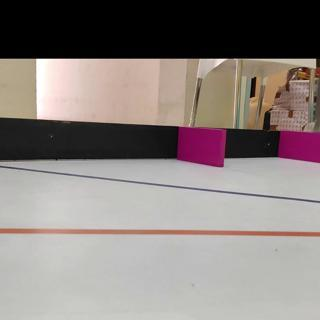xparking: (181, 127, 224, 167), (284, 133, 320, 160)
